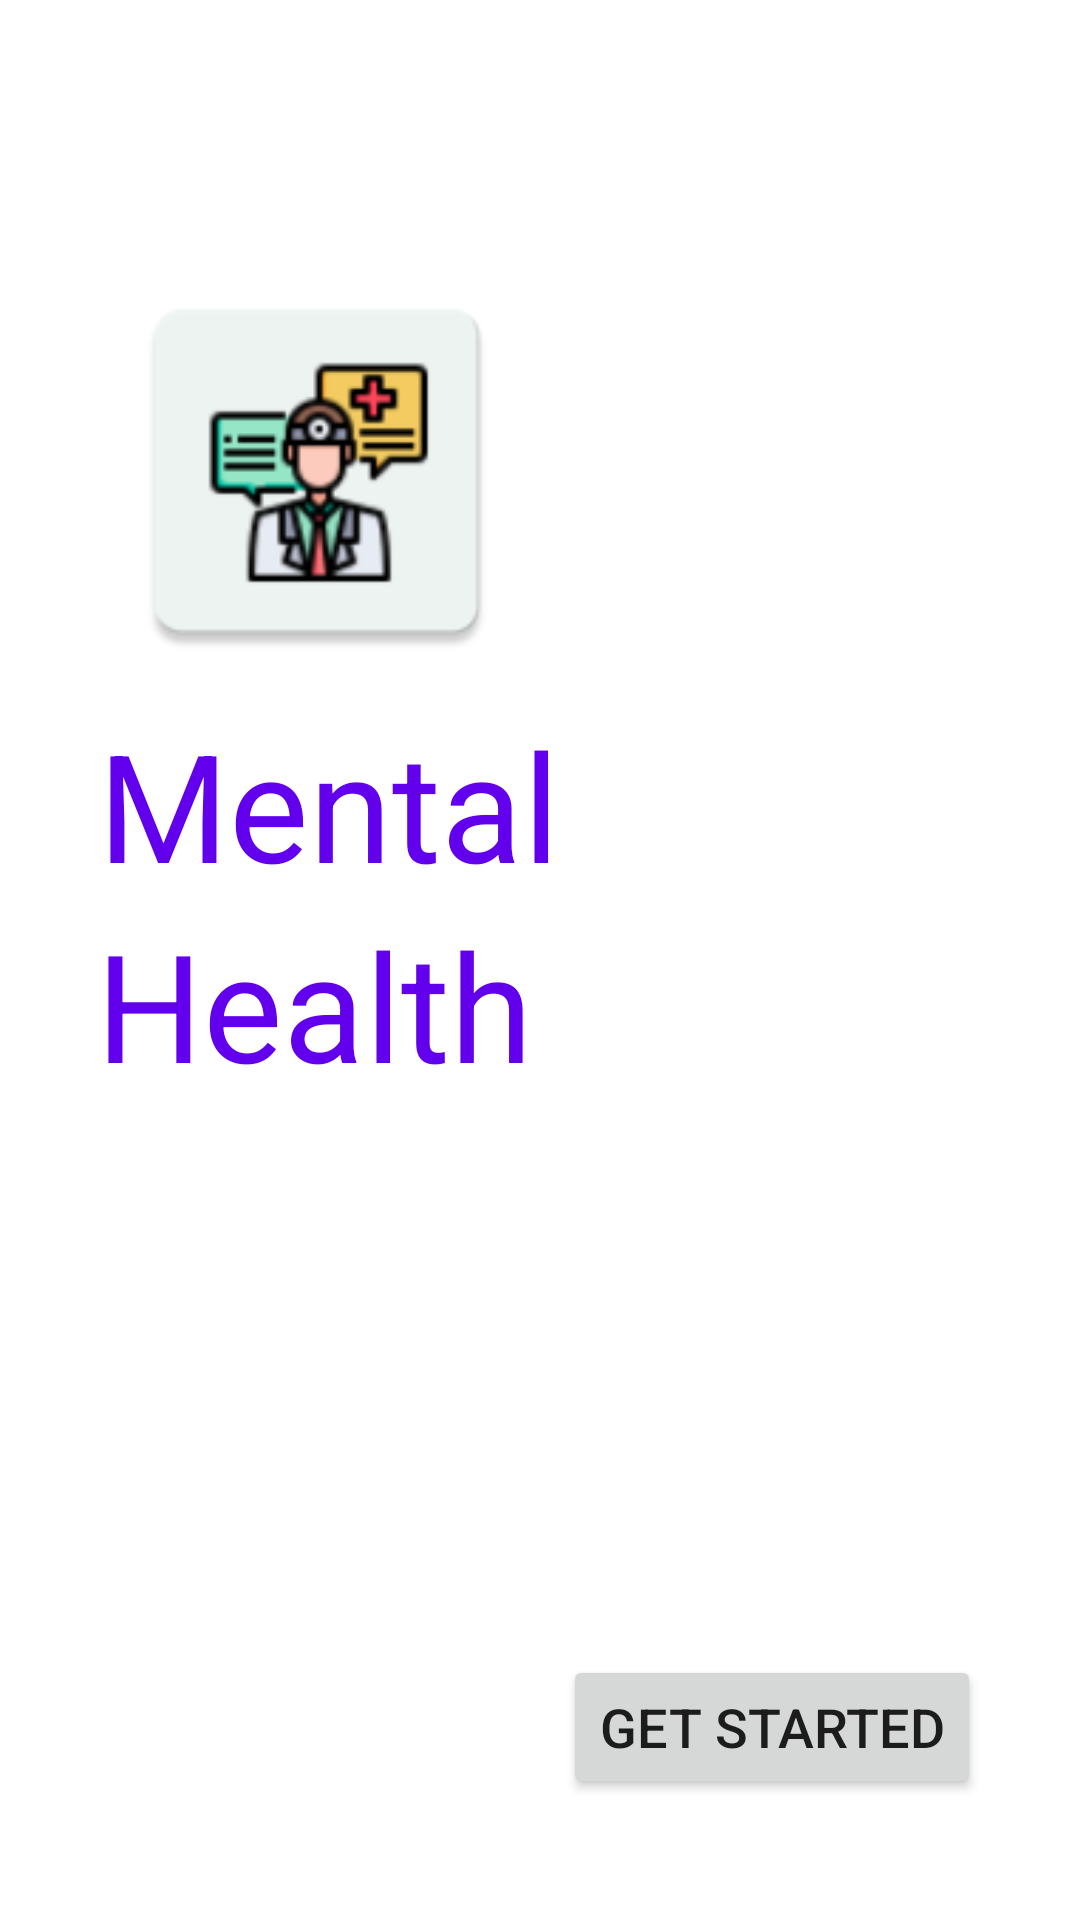

Point at icon controls on the screen. Image size 1080px×1920px, points as (x,y).
doctor: (317,477)
